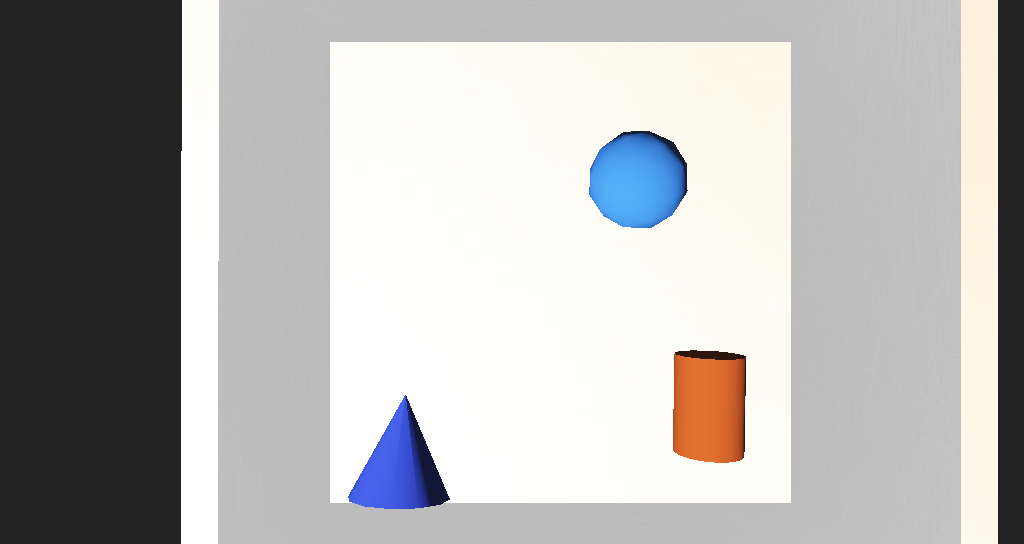cone: (573, 305, 627, 353)
cylinder: (367, 317, 441, 379)
sphere: (519, 208, 586, 251)
